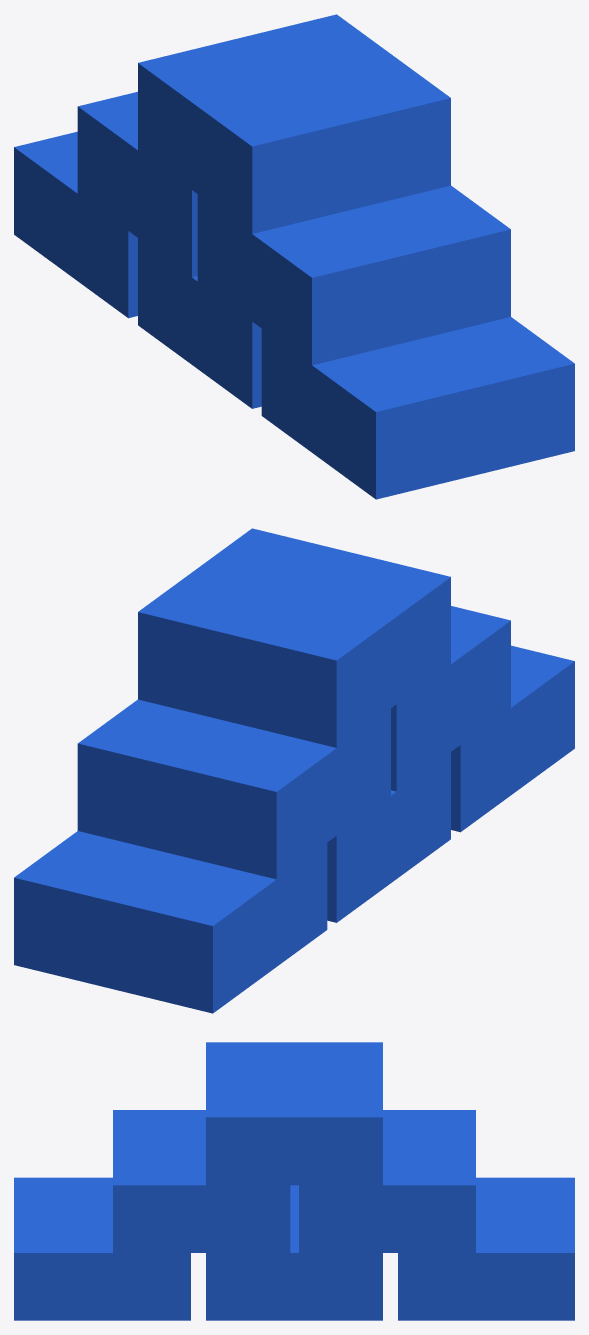
File: stack.fbx
The picture shows the model from 3 angles, top to bottom: view 1: azimuth 30°, elevation 25°; view 2: azimuth 150°, elevation 25°; view 3: azimuth 270°, elevation 25°; orthographic projection. The views are drawn at different scales.
Visible parts, largest first — view 1: Cube.030; view 2: Cube.030; view 3: Cube.030.
Part boxes in pixels (x1,y1,x2,y2): Cube.030: (14, 14, 574, 499); Cube.030: (14, 528, 574, 1013); Cube.030: (14, 1042, 574, 1320).
Bounding box in the file's own units: 21.4 × 26.96 × 67.44.
